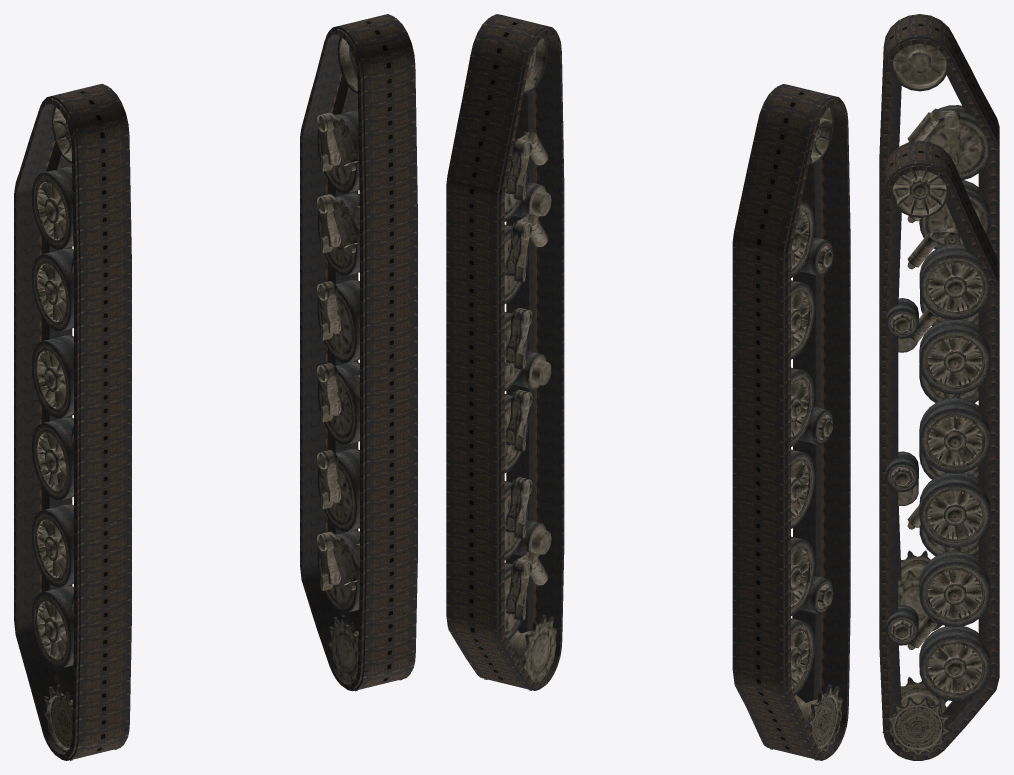
File: Chassis.glb
3 renders of one model, left to right at view 1: azimuth 30°, elevation 25°; view 2: azimuth 150°, elevation 25°; view 3: azimuth 270°, elevation 25°, orthographic. The views are drawn at different scales.
Visible parts, largest first — view 1: set_1_group_0, set_0_group_0, set_3_group_0, set_2_group_0; view 2: set_1_group_0, set_0_group_0, set_3_group_0, set_2_group_0; view 3: set_3_group_0, set_0_group_0, set_2_group_0, set_1_group_0.
Part boxes in pixels (x1,y1,x2,y2): set_1_group_0: (14,84,131,760); set_0_group_0: (300,14,417,691); set_3_group_0: (317,36,412,691); set_2_group_0: (32,106,127,760); set_1_group_0: (732,84,850,760); set_0_group_0: (446,14,564,690); set_3_group_0: (477,36,556,690); set_2_group_0: (763,106,842,760); set_3_group_0: (882,170,990,754); set_0_group_0: (879,140,999,760); set_2_group_0: (891,43,990,625); set_1_group_0: (879,14,999,631).
Size of the model in its own units: 3.41 by 6.28 by 1.15.
4 materials, 4 textured.
